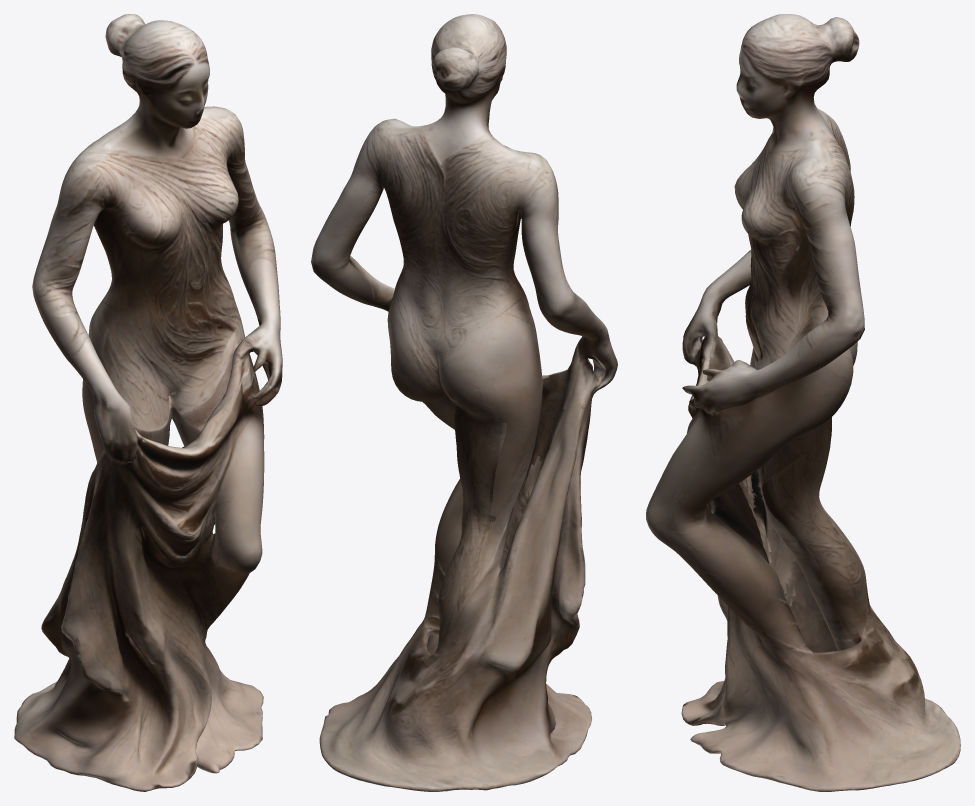
Rendered from Create_a_3D_model_of__1203054918_refine.fbx.
3 views of the same model, side by side, from view 1: azimuth 30°, elevation 25°; view 2: azimuth 150°, elevation 25°; view 3: azimuth 270°, elevation 25° (orthographic). The views are drawn at different scales.
Parts seen in each view (by area): view 1: Mesh1_Mesh1.074; view 2: Mesh1_Mesh1.074; view 3: Mesh1_Mesh1.074.
Boxes of the visible parts, x1,y1,x2,y2 form: Mesh1_Mesh1.074: [14, 14, 282, 791]; Mesh1_Mesh1.074: [311, 14, 617, 791]; Mesh1_Mesh1.074: [646, 14, 960, 791].
Bounding box in the file's own units: 71.49 × 200 × 78.79.
1 material, 1 textured.
